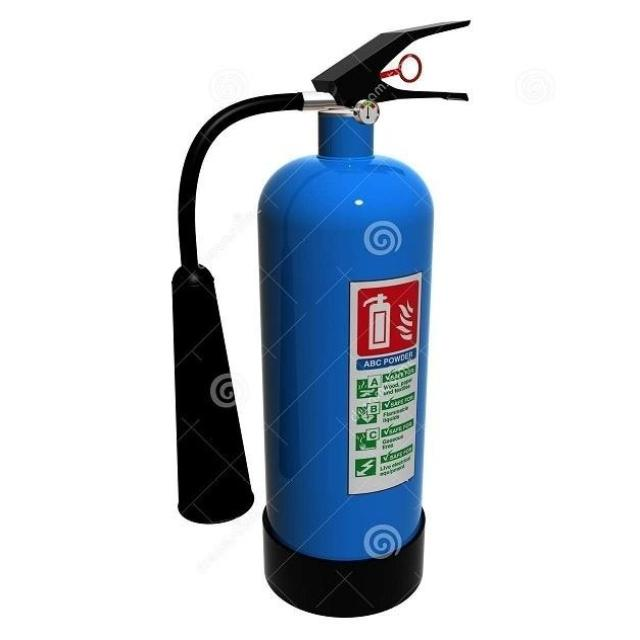fire_extinguisher: (164, 16, 474, 623)
